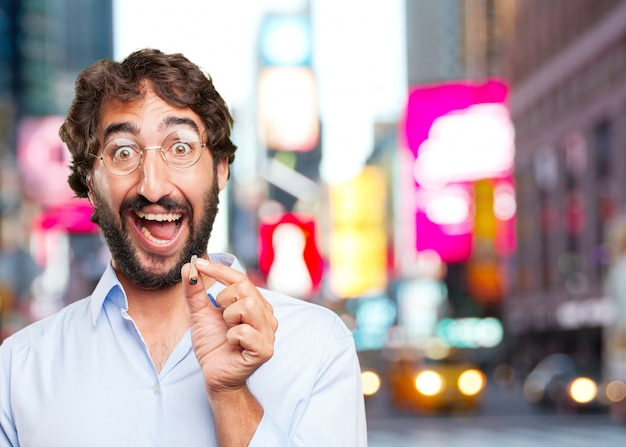cigarette: (187, 251, 200, 287)
